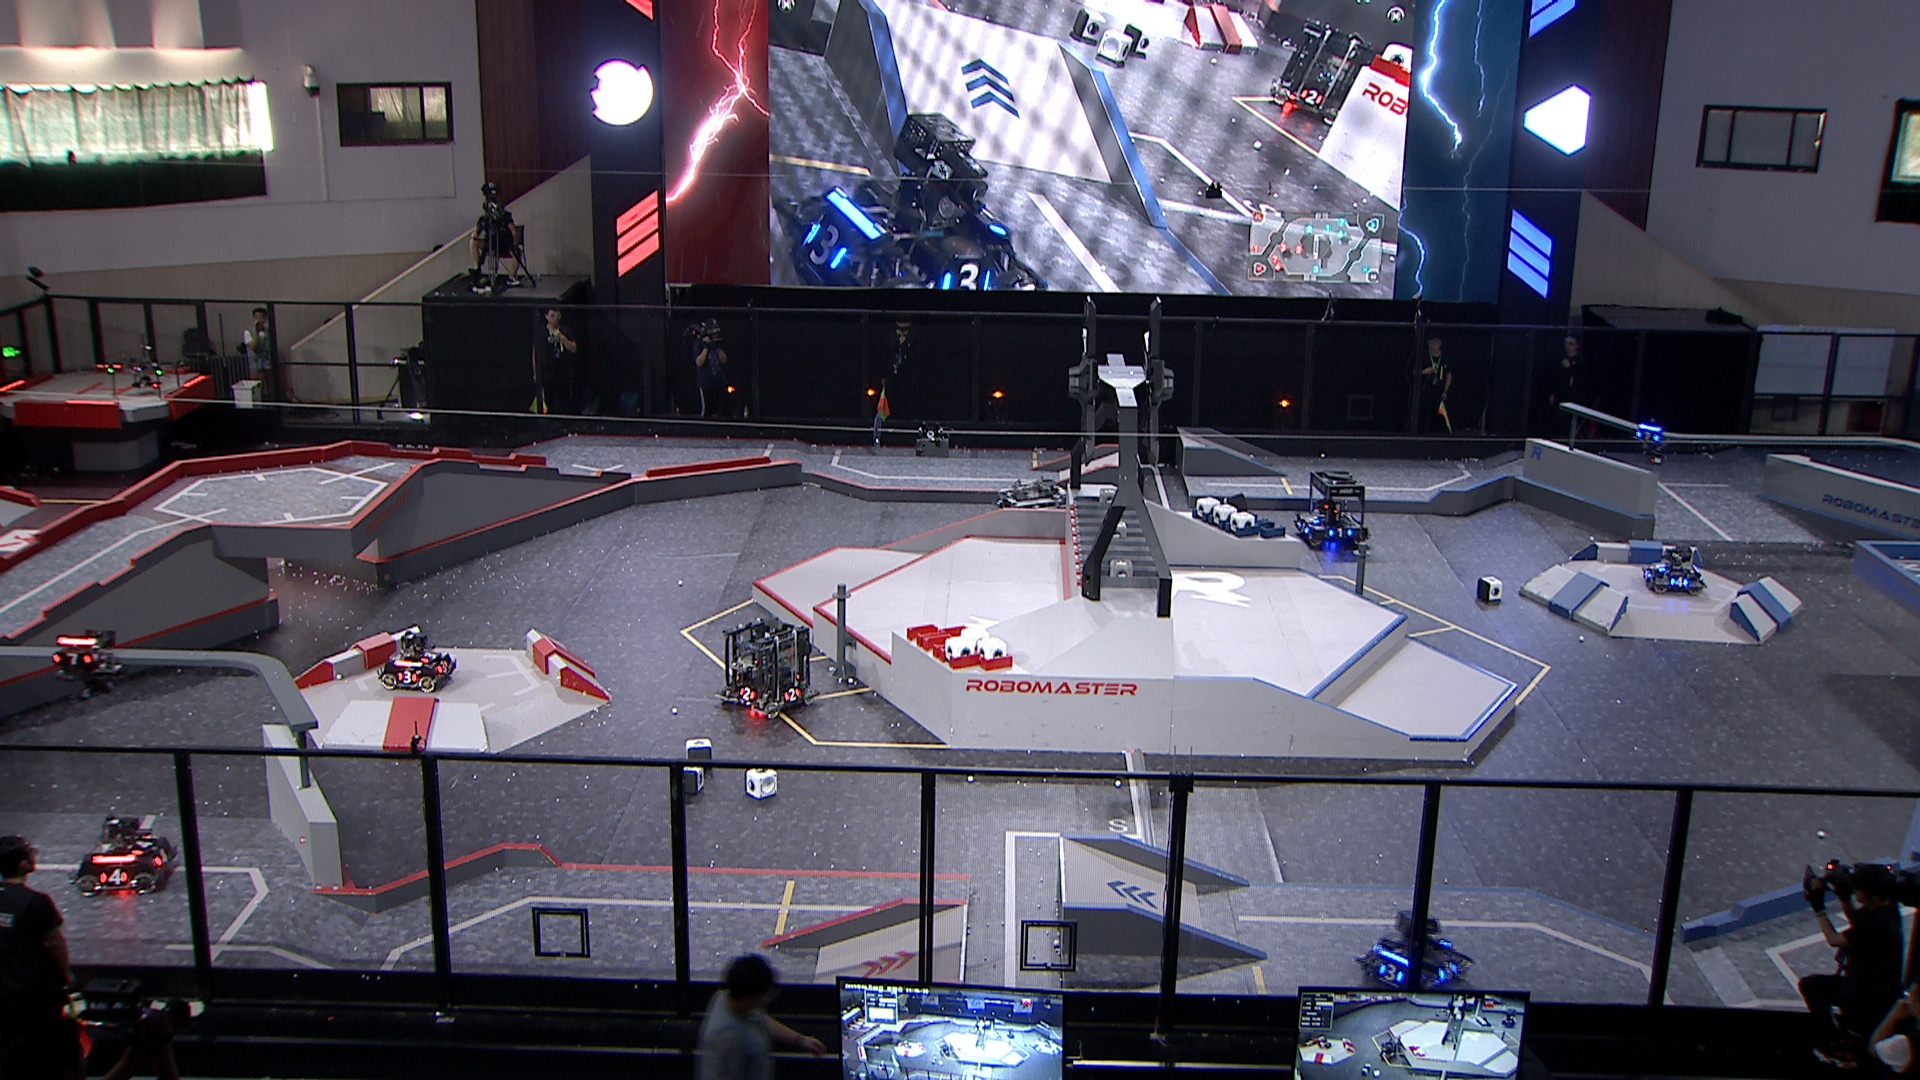armor: (54, 651, 91, 666), (96, 869, 129, 885), (1379, 963, 1404, 982), (133, 835, 154, 855), (1437, 963, 1458, 981), (1636, 429, 1660, 444), (394, 670, 417, 684), (737, 684, 756, 702), (156, 845, 169, 865), (1329, 527, 1352, 538), (1669, 578, 1689, 589), (1651, 560, 1669, 572), (785, 688, 800, 702), (436, 657, 448, 674), (1642, 567, 1654, 582), (1307, 517, 1323, 527), (1298, 522, 1309, 535), (423, 650, 438, 661)
car: (716, 617, 820, 721), (1358, 907, 1472, 994), (69, 814, 179, 893), (992, 476, 1083, 564), (1291, 467, 1371, 550), (373, 632, 455, 695), (1640, 537, 1712, 597)
ignore: (782, 117, 1040, 294), (1266, 20, 1377, 121), (1377, 1034, 1396, 1062), (936, 1040, 953, 1055), (1501, 1014, 1516, 1027), (1005, 1027, 1017, 1040)
watcher: (49, 624, 124, 700), (1631, 414, 1673, 463)
